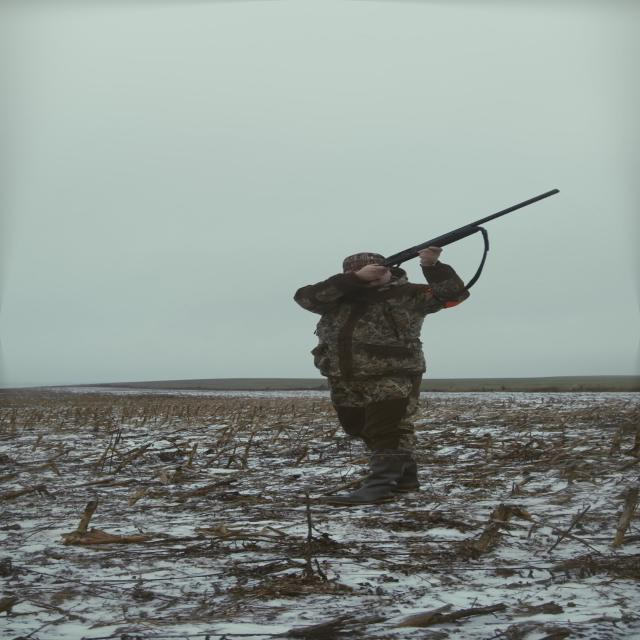poacher: (284, 228, 504, 490)
weapon: (380, 186, 572, 266)
